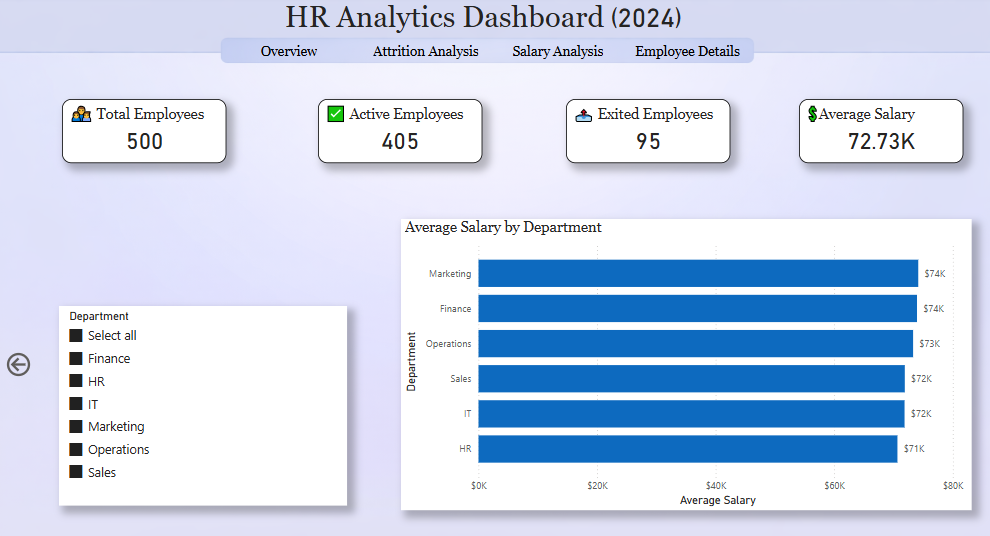

The page's visual inventory and layout, read from the dashboard file:
{"tool":"powerbi","page":{"name":"Salary Analysis","canvas":[1280,720],"ordinal":2},"visuals":[{"type":"card","title":"👨👦👦 Total Employees","fields":{"Values":["Employees.Total Employees"]},"box":[86.7,131.3,210.4,81.6],"z":0},{"type":"card","title":"✅ Active Employees","fields":{"Values":["Employees.Active Employees"]},"box":[414.3,131.3,210.4,81.6],"z":1000},{"type":"textbox","box":[0,0,1249.4,53.5],"z":2000},{"type":"shape","box":[464.1,53.5,175.9,34.4],"z":3000},{"type":"shape","box":[288.1,53.5,175.9,34.4],"z":4000},{"type":"shape","box":[800.6,53.5,169.6,34.4],"z":5000},{"type":"shape","box":[640,53.5,160.6,34.4],"z":6000},{"type":"barChart","fields":{"Y":["Employees.Average Salary"],"Category":["Employees.Department"]},"box":[520.2,284.3,729.2,372.3],"z":7000},{"type":"card","title":"💲Average Salary","fields":{"Values":["Employees.Average Salary"]},"box":[1028.8,131.3,210.4,81.6],"z":8000},{"type":"card","title":"📤 Exited Employees","fields":{"Values":["Employees.Exited Employees"]},"box":[730.5,131.3,210.4,81.6],"z":9000},{"type":"shape","box":[30.7,374.3,454.8,152],"z":10000}]}

Visuals, with their boxes on the page's 1280x720 design canvas (x1, y1, x2, y2). These are canvas units, not pixel positions in the 990x536 screenshot, which may show the page scaled, cropped or inside an application window:
"👨👦👦 Total Employees" card: 87, 131, 297, 213
"✅ Active Employees" card: 414, 131, 625, 213
textbox: 0, 0, 1249, 54
shape: 464, 54, 640, 88
shape: 288, 54, 464, 88
shape: 801, 54, 970, 88
shape: 640, 54, 801, 88
barChart - Employees.Average Salary x Employees.Department: 520, 284, 1249, 657
"💲Average Salary" card: 1029, 131, 1239, 213
"📤 Exited Employees" card: 730, 131, 941, 213
shape: 31, 374, 486, 526
